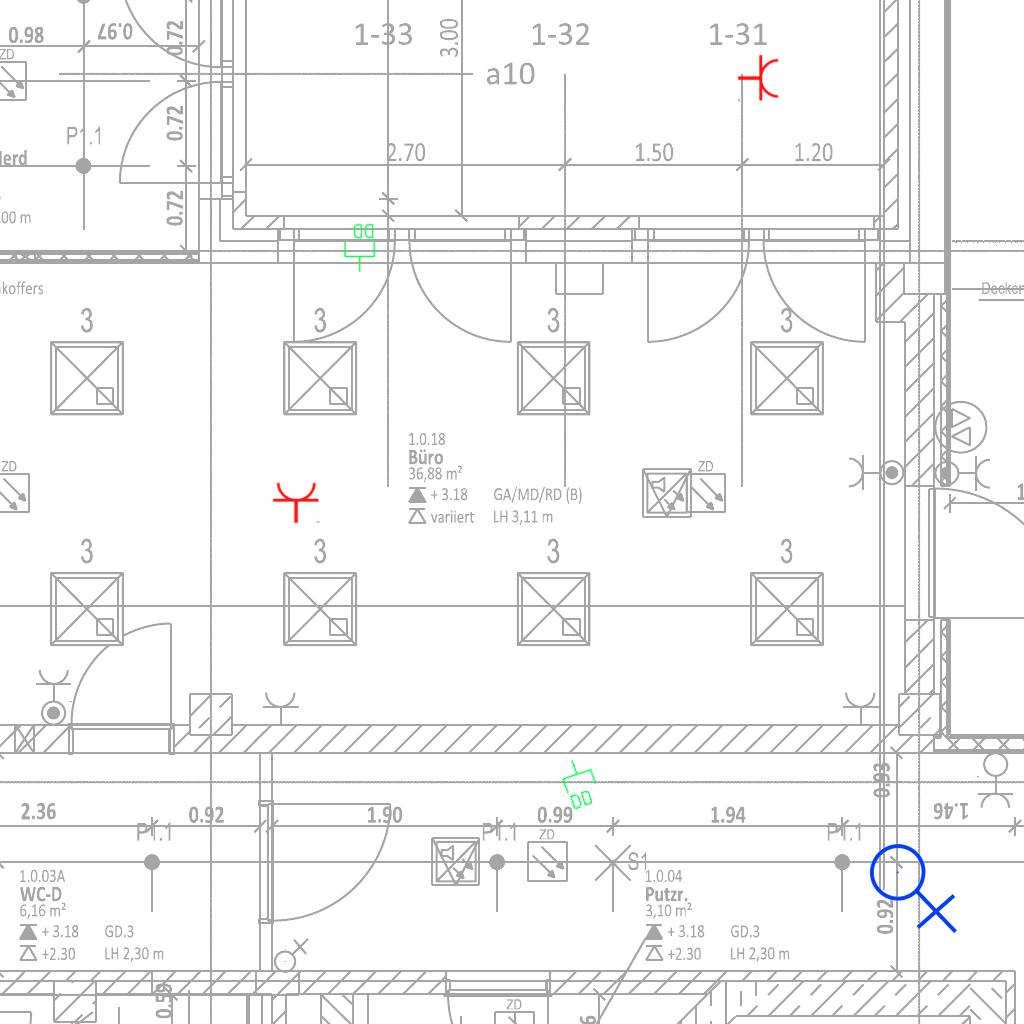Datenanschluss_zweifach: (555, 753, 604, 813), (343, 222, 377, 273)
Elektroanschluss_allgemein_230V_Geraeteanschlussdose_230V: (868, 835, 962, 934)
Schukosteckdose_einfach: (272, 481, 322, 524), (737, 54, 780, 104)
